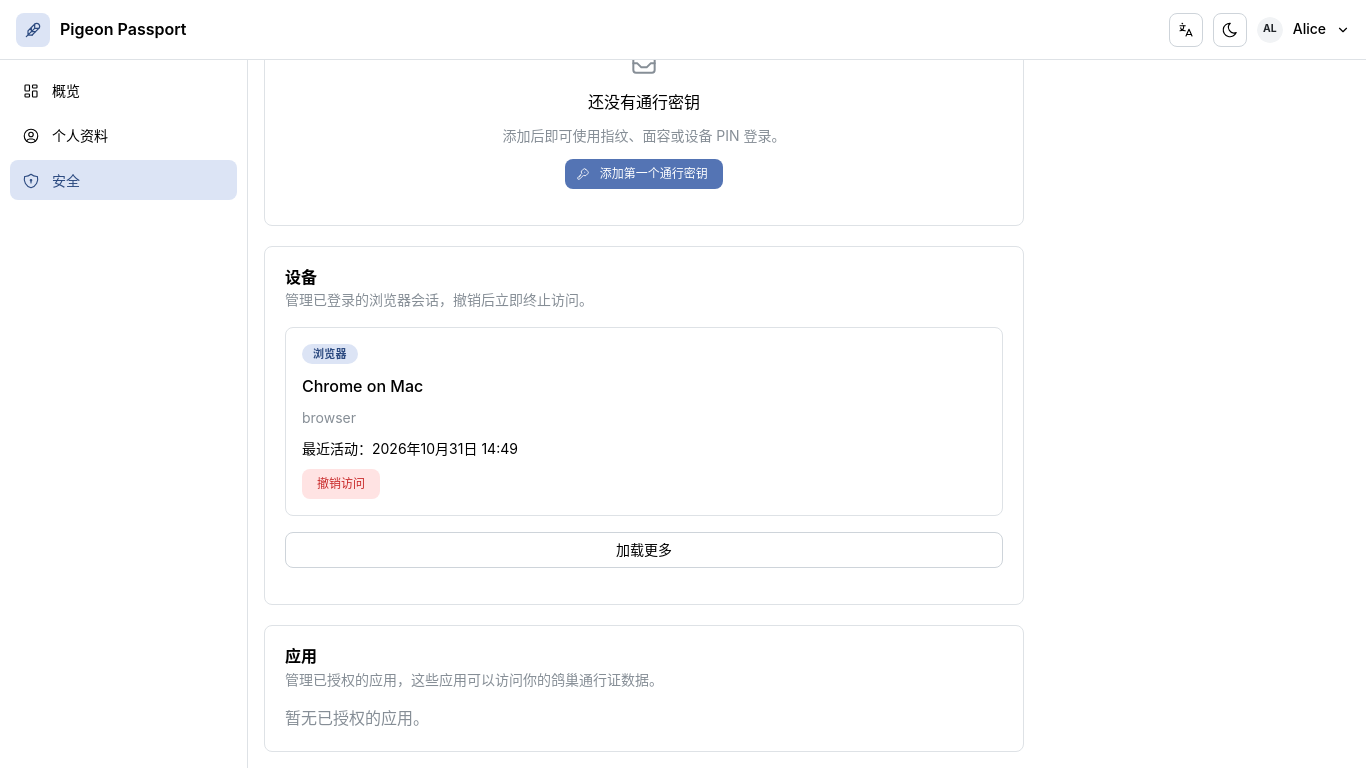
it: DevicesCard › paginates browser sessions and revokes the current browser without step-up
(page scrolled)
Expected: the text "Chrome on Mac" is shown, 302,376 -> 423,396
Expected: the text "浏览器" is shown, 313,344 -> 347,362
Click the button "加载更多" at (644, 550), box 285,532 -> 1003,568
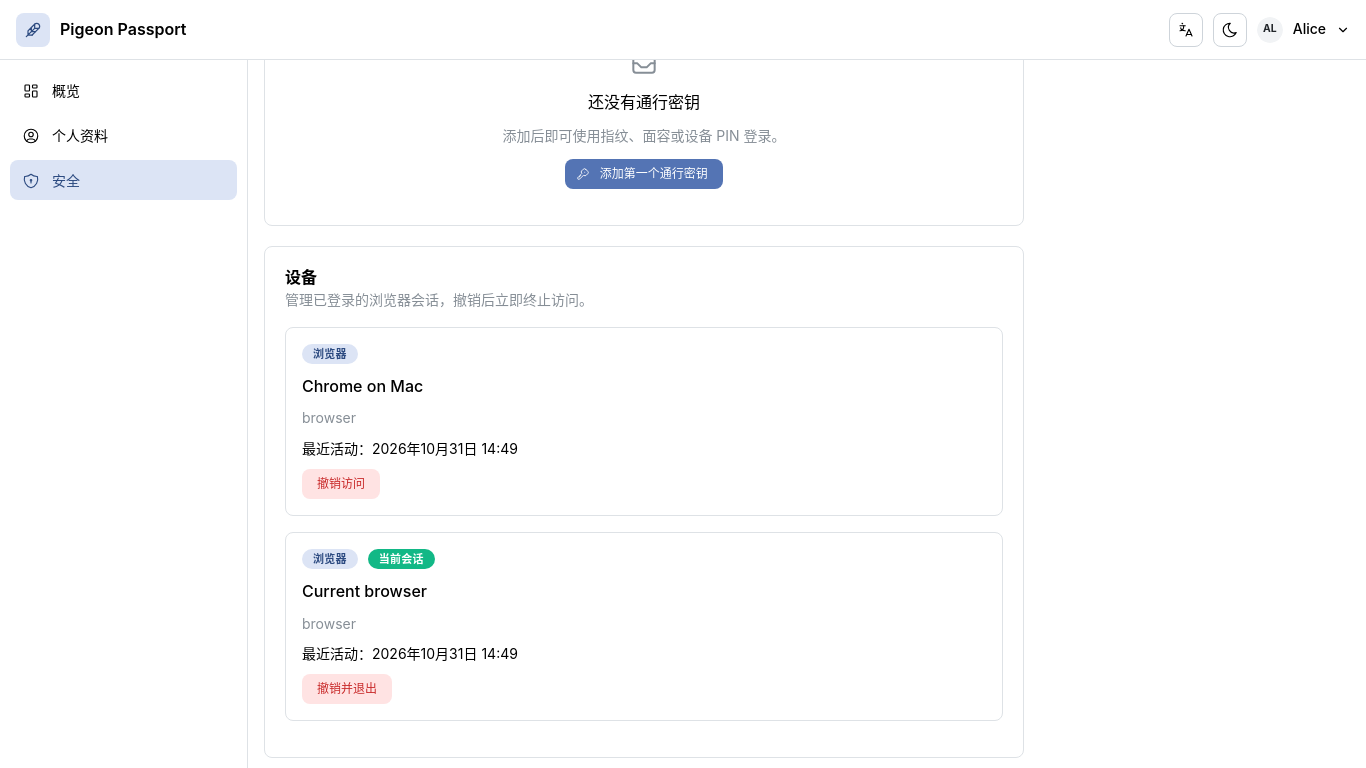
Now the text "当前会话" is shown, box 379,550 -> 424,568
Click the button "撤销并退出" at (347, 689), box 302,674 -> 392,704
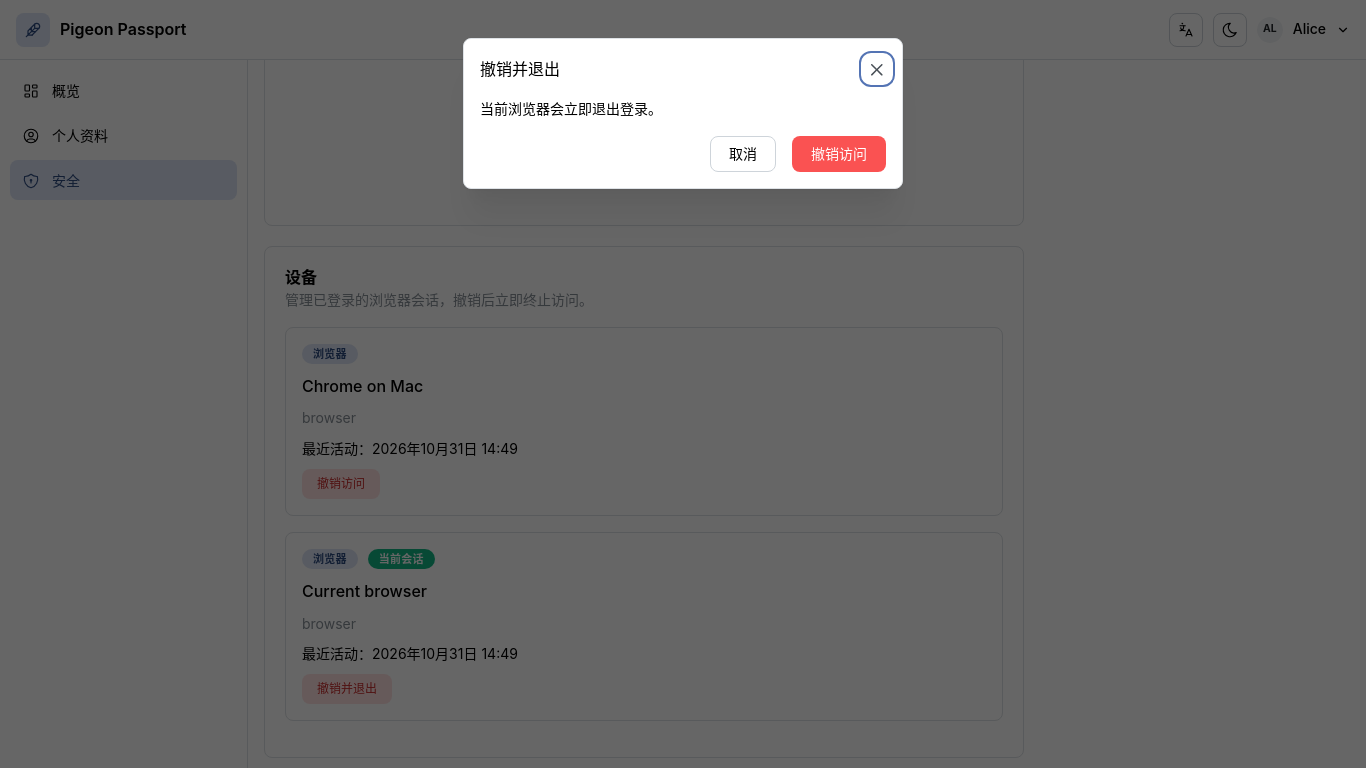
Click the button "撤销访问" at (839, 154), box 792,136 -> 886,172
(page scrolled)
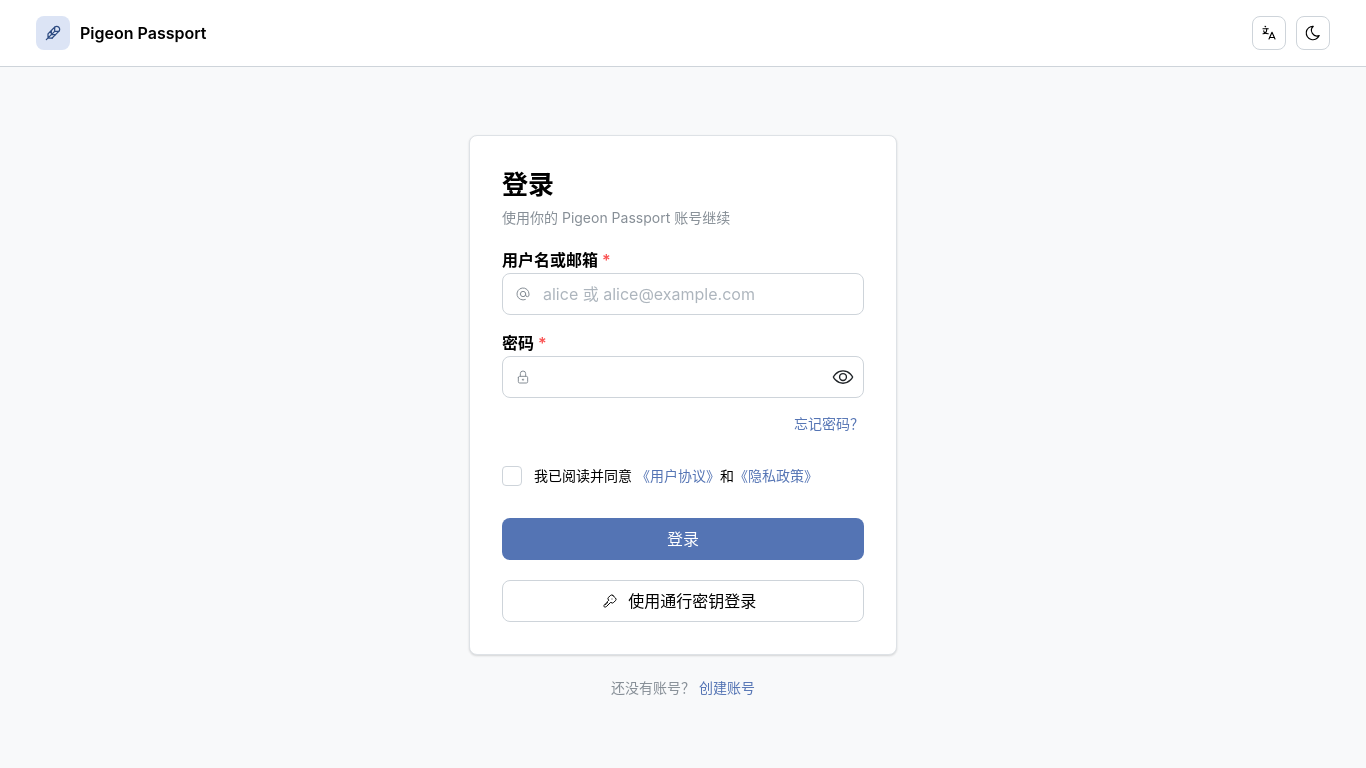
Now the heading "登录" is shown, box 502,169 -> 554,200
